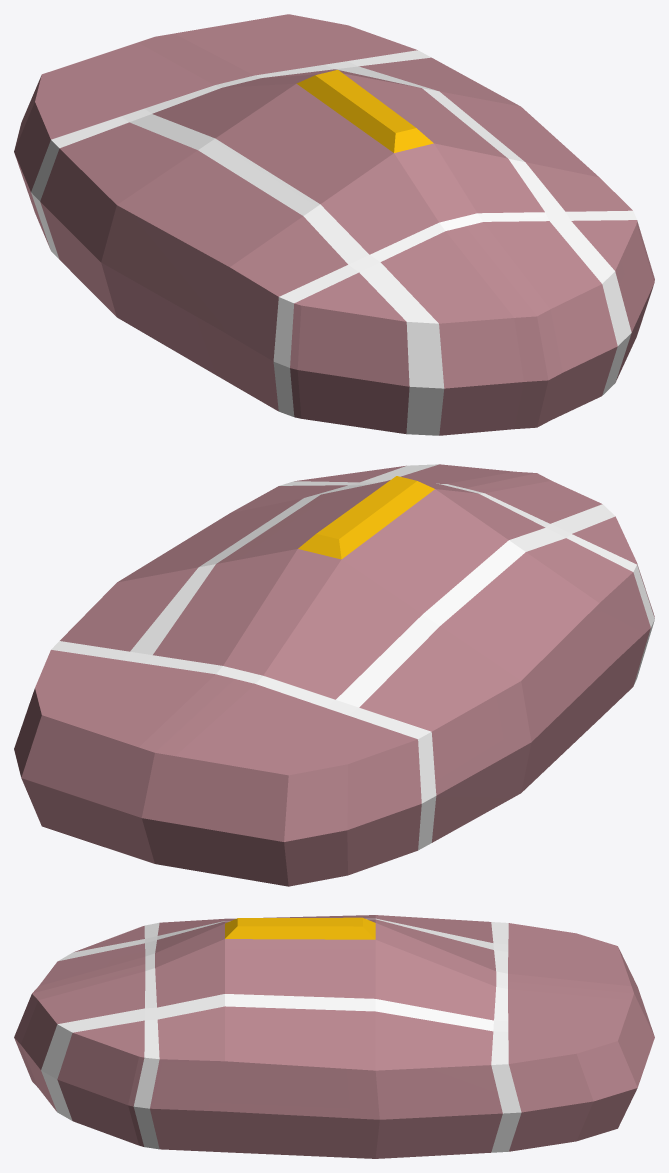
The model's file is Mouse_3C.fbx.
3 views of the same model, one above another, from view 1: azimuth 30°, elevation 25°; view 2: azimuth 150°, elevation 25°; view 3: azimuth 270°, elevation 25° (orthographic). The views are drawn at different scales.
Visible parts, largest first — view 1: Mouse_3C; view 2: Mouse_3C; view 3: Mouse_3C.
Part boxes in pixels (bbox=[...]): Mouse_3C: bbox=[14, 14, 654, 435]; Mouse_3C: bbox=[14, 464, 654, 886]; Mouse_3C: bbox=[14, 915, 654, 1158].
Bounding box in the file's own units: 0.053 × 0.0237 × 0.0867.
